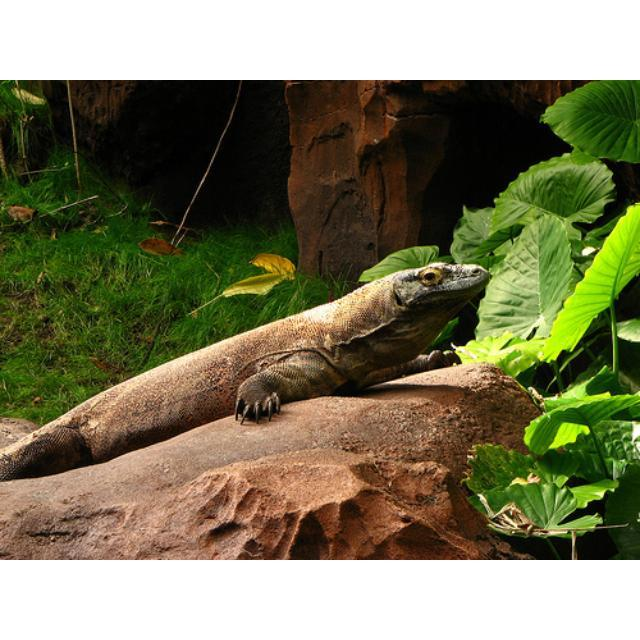KomodoDragon: (0, 260, 490, 477)
